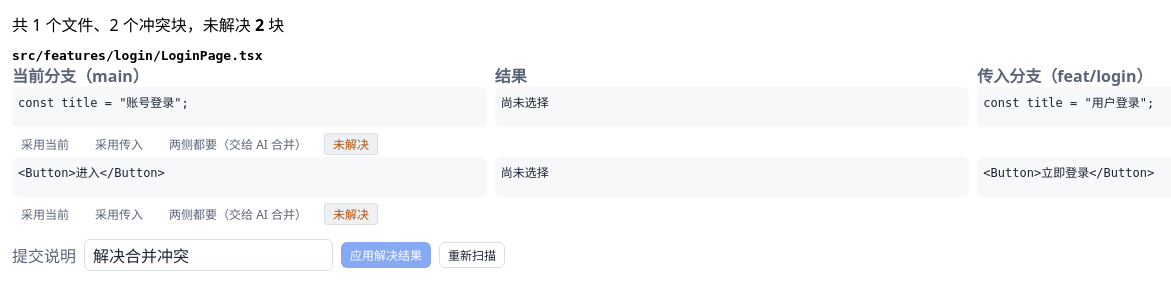
it: ConflictEditor（T6-04 冲突三栏） › 逐块选择后「结果」栏按选择展开，并显示解决标签
Expected: the message "共 1 个文件、2 个冲突块，未解决 2 块" is shown, left=12, top=14, right=284, bottom=36
What coordinates should you click on to do the following:
click the button "采用传入" below "const title = \"账号登录\";"
I would click on:
 (119, 144)
Its box is left=86, top=131, right=152, bottom=157.
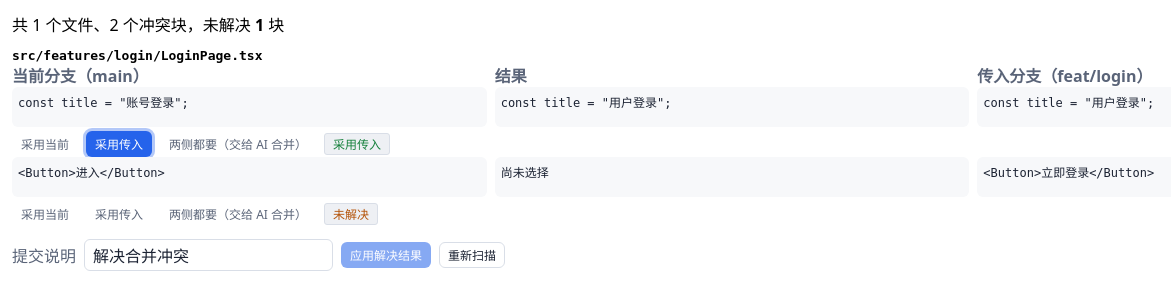
Now the 1st text with test id "col-result" shows "用户登录", box left=501, top=96, right=672, bottom=110
